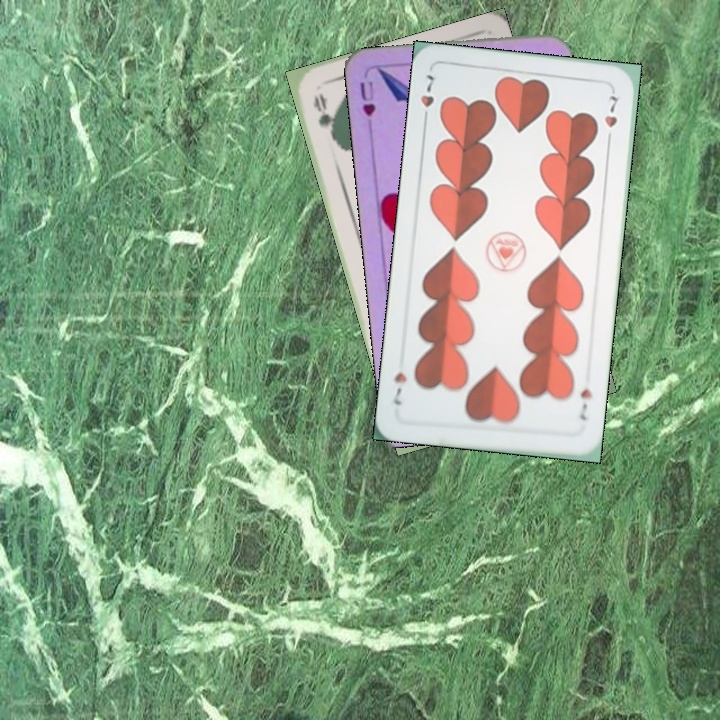GO: (309, 89, 340, 144)
H7: (416, 70, 437, 127), (575, 384, 594, 423)
HU: (356, 76, 378, 119)
